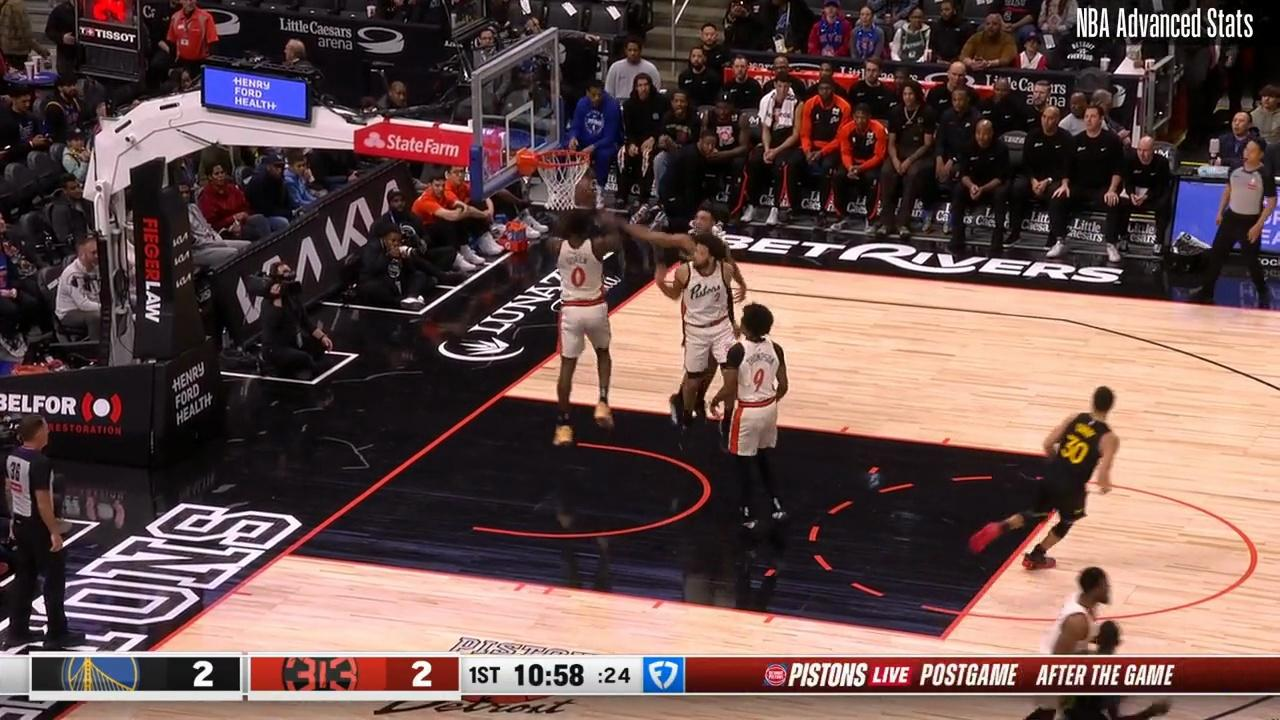basketball: (574, 179, 603, 206)
